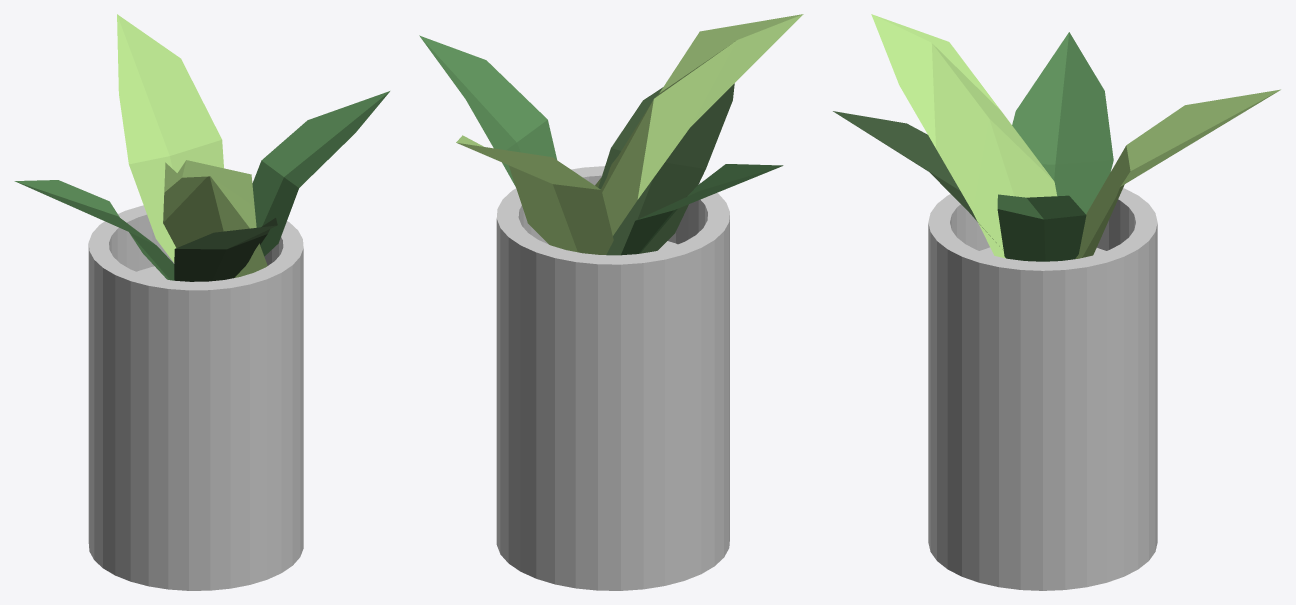
The model's file is plant.fbx.
3 views of the same model, side by side, from view 1: azimuth 30°, elevation 25°; view 2: azimuth 150°, elevation 25°; view 3: azimuth 270°, elevation 25° (orthographic). The views are drawn at different scales.
Visible parts, largest first — view 1: Plant4; view 2: Plant4; view 3: Plant4.
Part boxes in pixels (x1=…): Plant4: x1=14, y1=14, x2=389, y2=590; Plant4: x1=419, y1=14, x2=803, y2=590; Plant4: x1=833, y1=14, x2=1280, y2=590.
Size of the model in its own units: 43.82 by 52.87 by 44.95.
